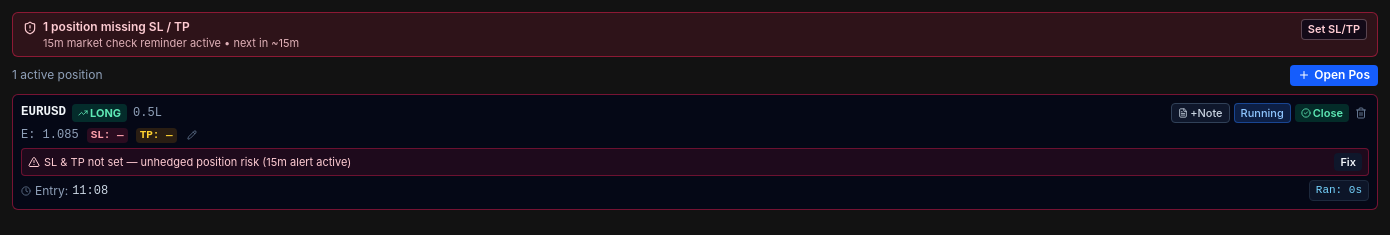
Test: Milestone 4 Widgets › shows smart SL/TP missing warnings in OngoingTradesWidget and clears them when updated inline
Check: the text "EURUSD" is shown, box [21,104,66,122]
Check: the message is shown, box [12,12,1378,57]
Click the button "Set SL/TP" at point(1334, 29), box [1301,19,1367,40]
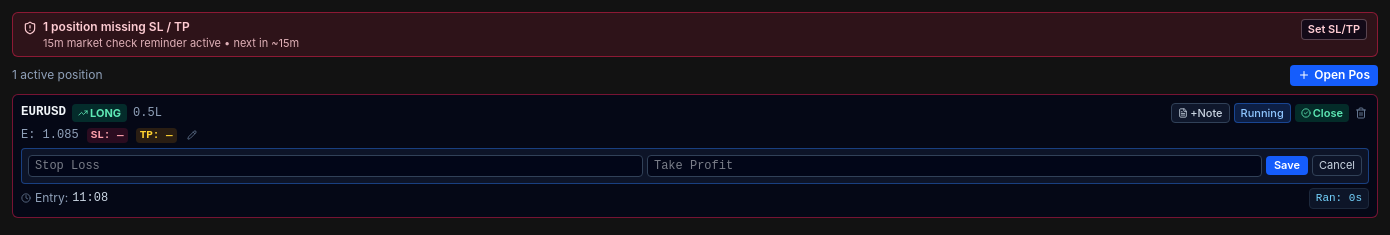
Type "1.082" into the number field named "Stop Loss for EURUSD" at point(335, 166), box [28,155,643,177]
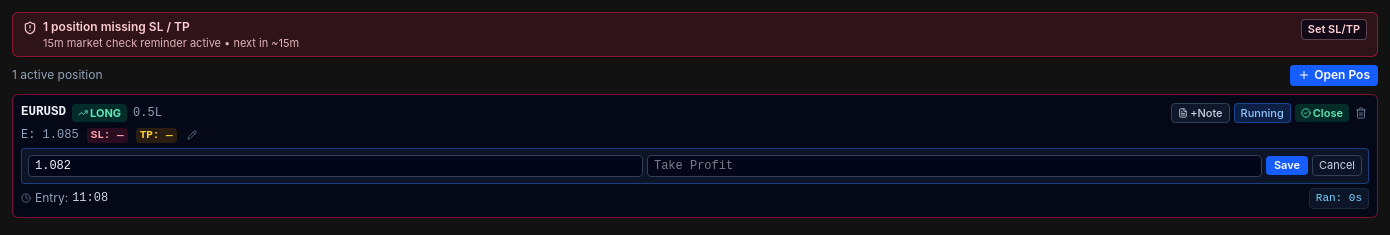
Type "1.092" into the number field named "Take Profit for EURUSD" at point(954, 166), box [647,155,1262,177]
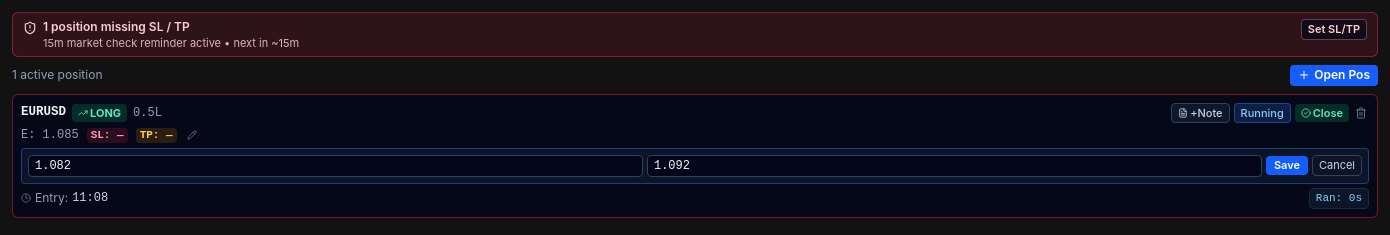
Click the button "Save" at point(1287, 166), box [1266,156,1308,175]
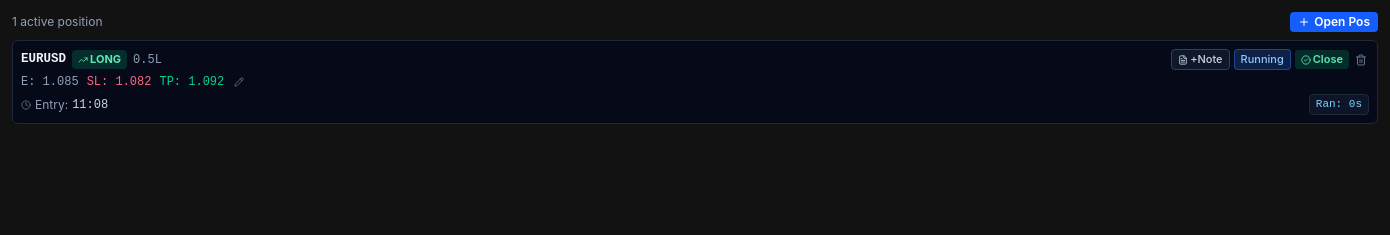
Check: the message is gone
Check: the text "SL: 1.082" is shown, box [87,74,151,90]
Check: the text "TP: 1.092" is shown, box [160,74,224,90]
